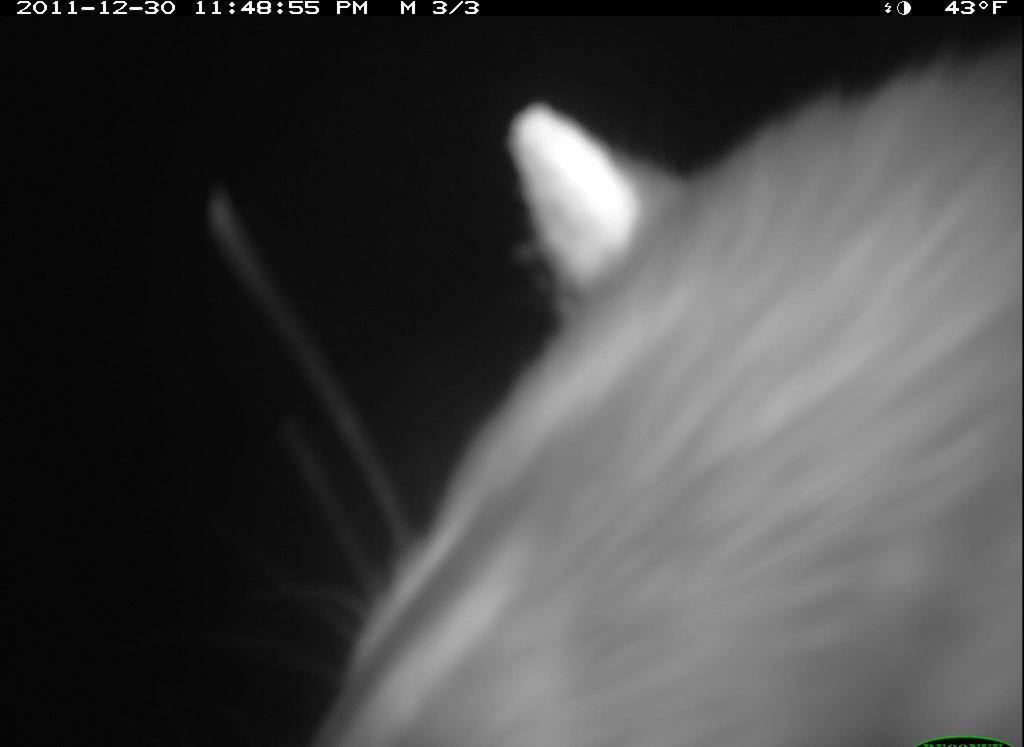raccoon: (258, 24, 1022, 747)
